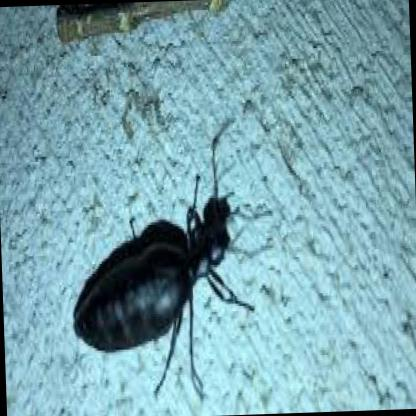blister beetle: (73, 147, 231, 357)
